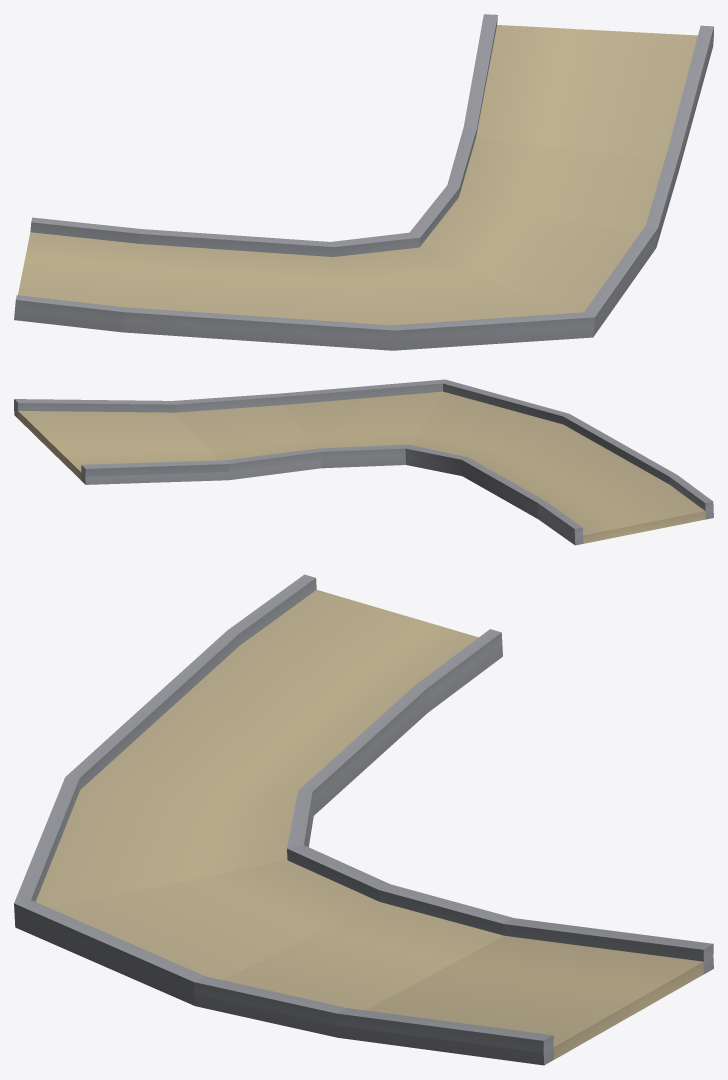
The model's file is sidewalk_16.fbx.
3 views of the same model, one above another, from view 1: azimuth 30°, elevation 25°; view 2: azimuth 150°, elevation 25°; view 3: azimuth 270°, elevation 25° (orthographic). The views are drawn at different scales.
Visible parts, largest first — view 1: sidewalk_15; view 2: sidewalk_15; view 3: sidewalk_15.
Boxes of the visible parts, bbox=[...] form: sidewalk_15: bbox=[14, 14, 713, 350]; sidewalk_15: bbox=[14, 379, 713, 545]; sidewalk_15: bbox=[14, 574, 713, 1065].
Bounding box in the file's own units: 1.11 × 0.0962 × 0.6889.
1 material, 1 textured.
